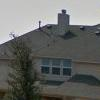Chimney: (50, 5, 71, 37)
